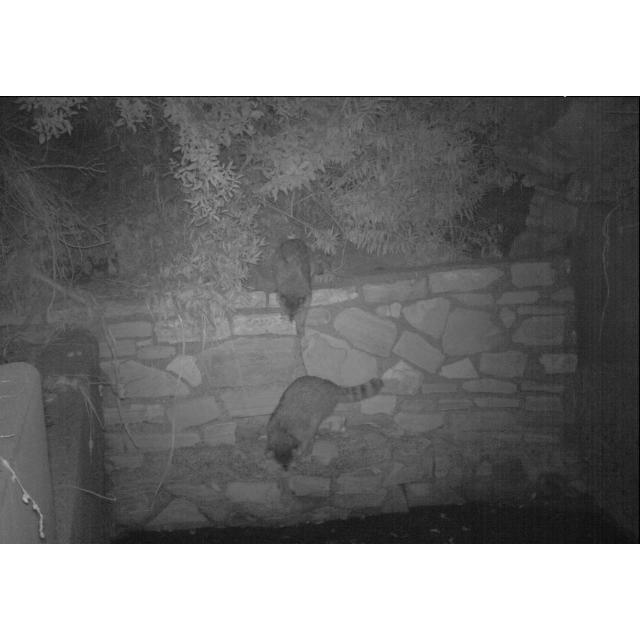animals: (262, 372, 384, 472)
